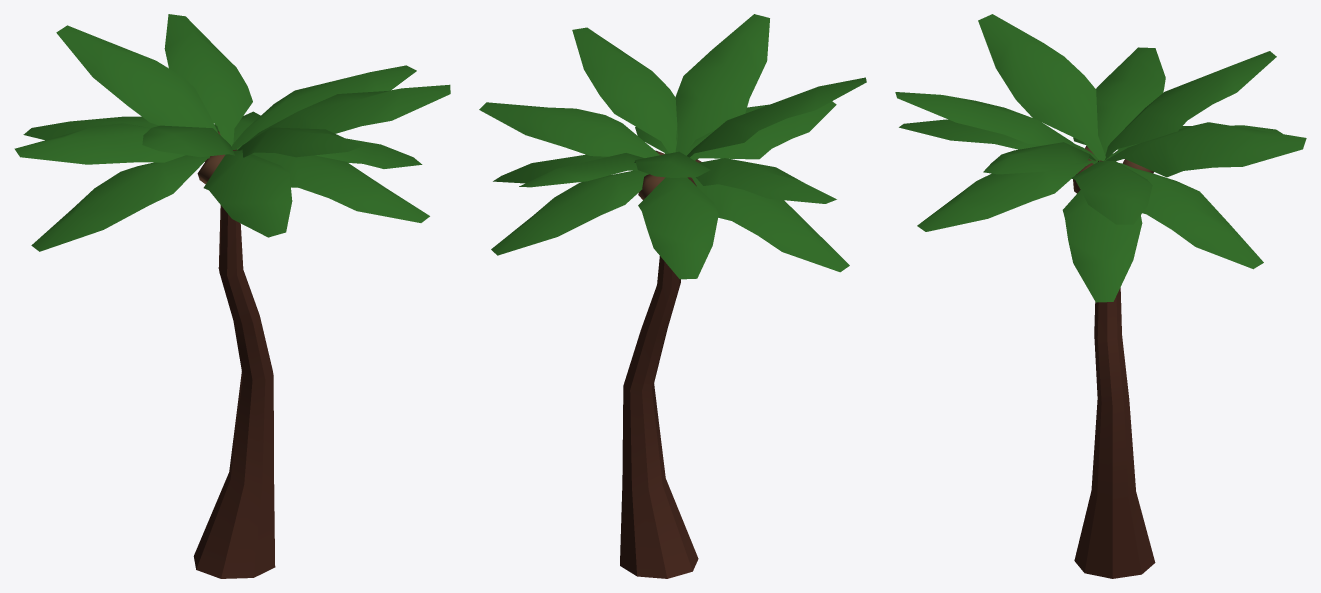
Rendered from SM_palmtree_06_LOD2.fbx.
3 views of the same model, side by side, from view 1: azimuth 30°, elevation 25°; view 2: azimuth 150°, elevation 25°; view 3: azimuth 270°, elevation 25° (orthographic). The views are drawn at different scales.
Parts seen in each view (by area): view 1: Palm_tree_03; view 2: Palm_tree_03; view 3: Palm_tree_03.
Part boxes in pixels (x1=…): Palm_tree_03: x1=14, y1=14, x2=450, y2=578; Palm_tree_03: x1=479, y1=14, x2=866, y2=578; Palm_tree_03: x1=895, y1=14, x2=1306, y2=578.
Size of the model in its own units: 517 by 644 by 505.
